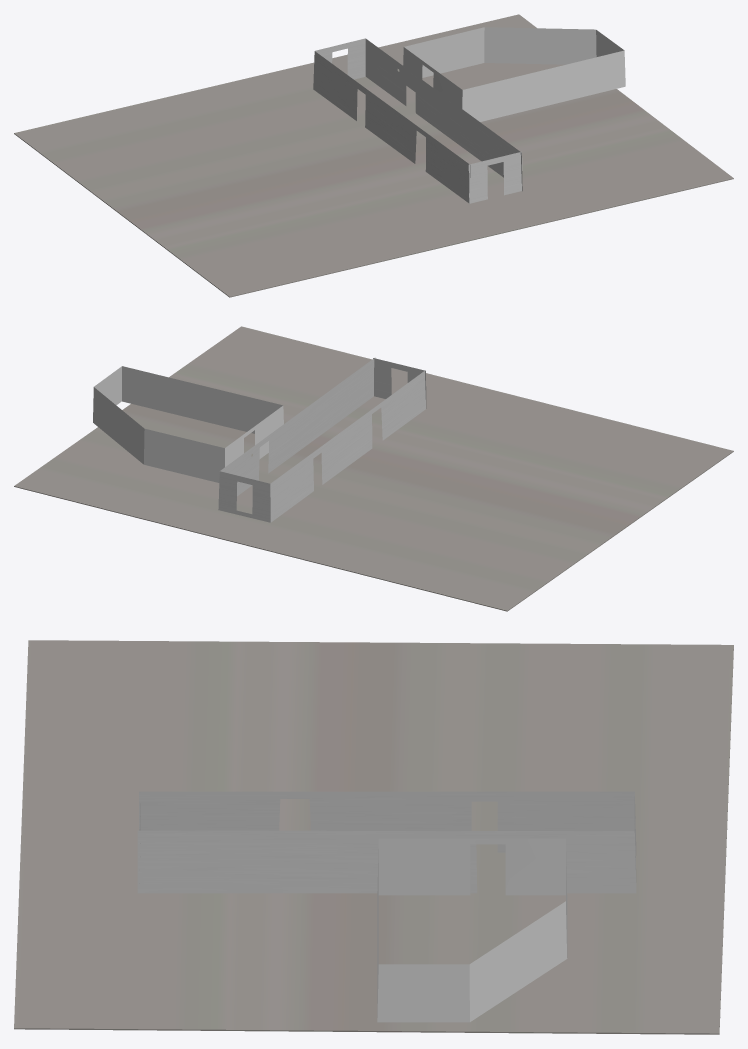
The model's file is hall4.fbx.
The picture shows the model from 3 angles, top to bottom: view 1: azimuth 30°, elevation 25°; view 2: azimuth 150°, elevation 25°; view 3: azimuth 270°, elevation 25°; orthographic projection. The views are drawn at different scales.
Visible parts, largest first — view 1: ENV_Plafondhall_lobbyfloor, ENV_Wall02_Corner.001_dracular_room, ENV_Wall01.002_lobby; view 2: ENV_Plafondhall_lobbyfloor, ENV_Wall01.002_lobby, ENV_Wall02_Corner.001_dracular_room; view 3: ENV_Plafondhall_lobbyfloor, ENV_Wall01.002_lobby, ENV_Wall02_Corner.001_dracular_room.
Boxes of the visible parts, box(x1,y1,x2,y2) form: ENV_Plafondhall_lobbyfloor: box(14, 14, 733, 297); ENV_Wall02_Corner.001_dracular_room: box(403, 27, 625, 121); ENV_Wall01.002_lobby: box(313, 38, 522, 203); ENV_Plafondhall_lobbyfloor: box(14, 326, 733, 611); ENV_Wall01.002_lobby: box(218, 357, 426, 522); ENV_Wall02_Corner.001_dracular_room: box(93, 366, 283, 482); ENV_Plafondhall_lobbyfloor: box(14, 640, 733, 1034); ENV_Wall01.002_lobby: box(137, 791, 636, 893); ENV_Wall02_Corner.001_dracular_room: box(377, 838, 567, 1022).
Bounding box in the file's own units: 29827 × 2444 × 23074.
